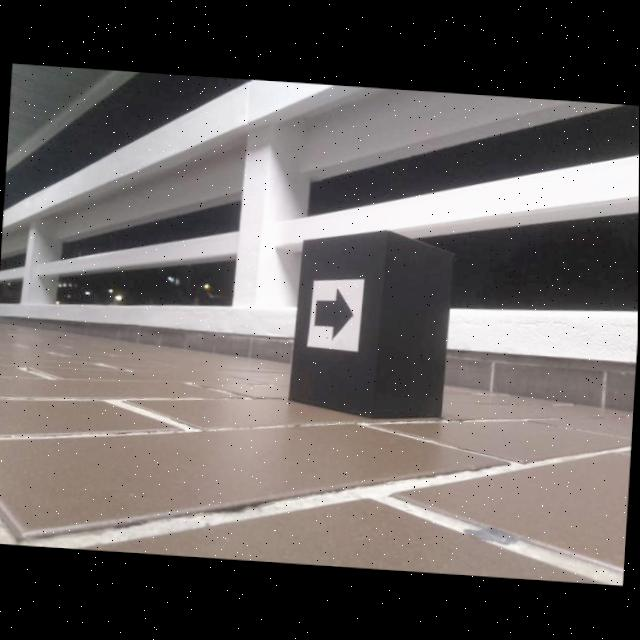RIGHT: (315, 288, 353, 339)
